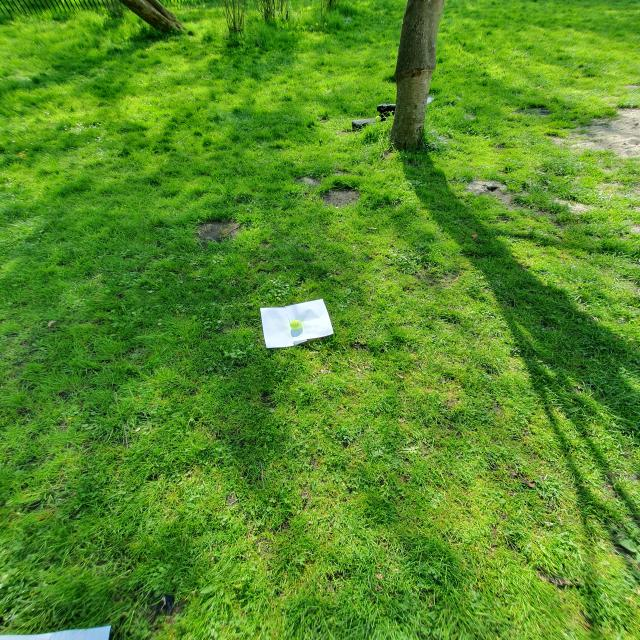green: (290, 320, 303, 329)
